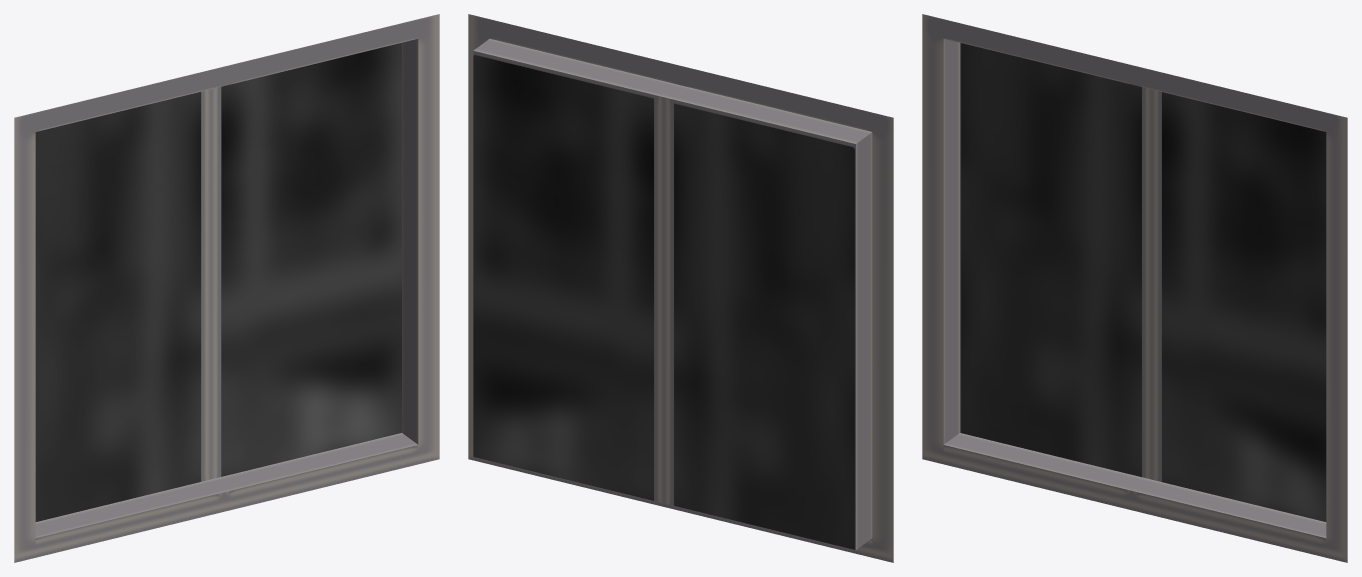
File: SM_ENV_K2_WINDOW_01.fbx
3 views of the same model, side by side, from view 1: azimuth 30°, elevation 25°; view 2: azimuth 150°, elevation 25°; view 3: azimuth 330°, elevation 25° (orthographic).
Visible parts, largest first — view 1: SM_ENV_K2_WINDOW_01; view 2: SM_ENV_K2_WINDOW_01; view 3: SM_ENV_K2_WINDOW_01.
Boxes of the visible parts, x1,y1,x2,y2 form: SM_ENV_K2_WINDOW_01: (14, 14, 439, 562); SM_ENV_K2_WINDOW_01: (468, 14, 893, 562); SM_ENV_K2_WINDOW_01: (922, 14, 1347, 562).
Size of the model in its own units: 1.5 by 1.5 by 0.1.
